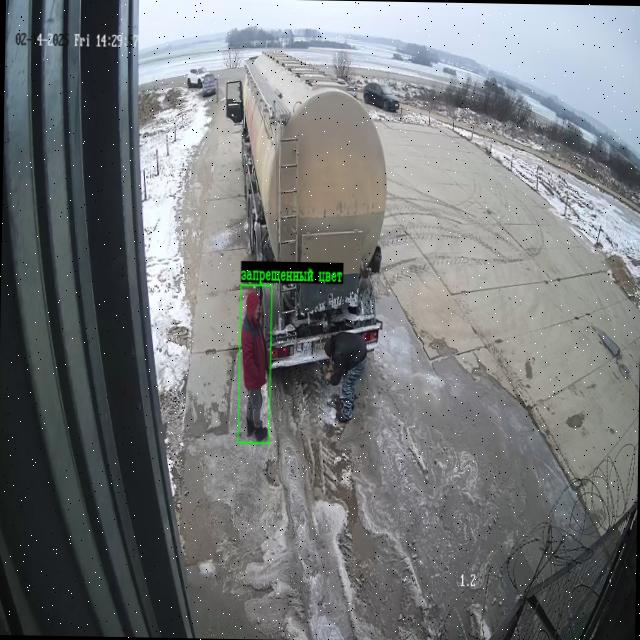Person: (325, 331, 367, 422)
Red uniform: (241, 291, 266, 437)
